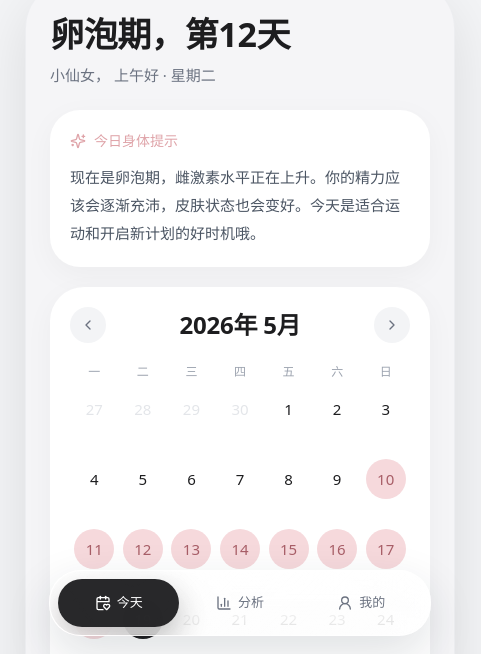
Test: Half Moon app › shows an empty trend state when there is not enough cycle data
This screenshot has width=481, height=654.
Step 1. Click the button "分析" → [240, 603], box [179,579,301,627]
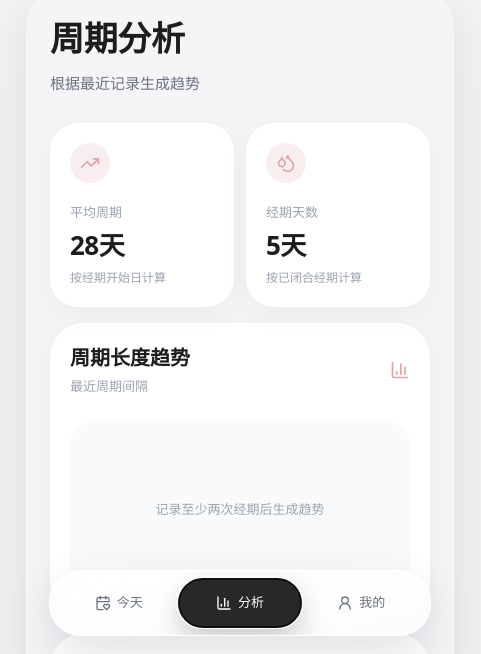
Check: the text "记录至少两次经期后生成趋势" is shown, box [70,420,410,596]
